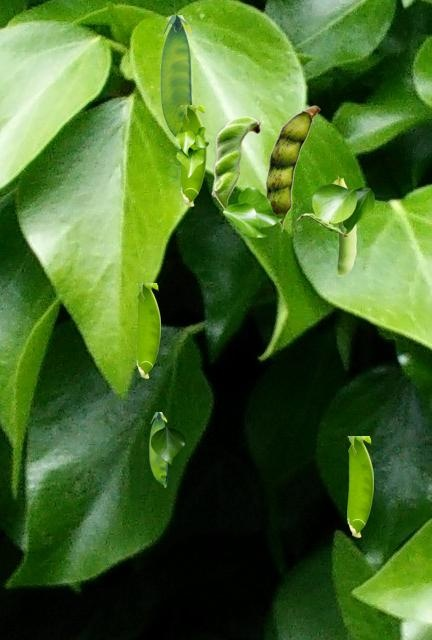pea: (266, 105, 319, 231), (211, 116, 263, 208), (160, 15, 191, 137), (180, 105, 205, 205), (347, 436, 372, 536), (332, 175, 355, 275), (136, 283, 159, 377), (149, 412, 166, 486), (297, 213, 346, 235)
